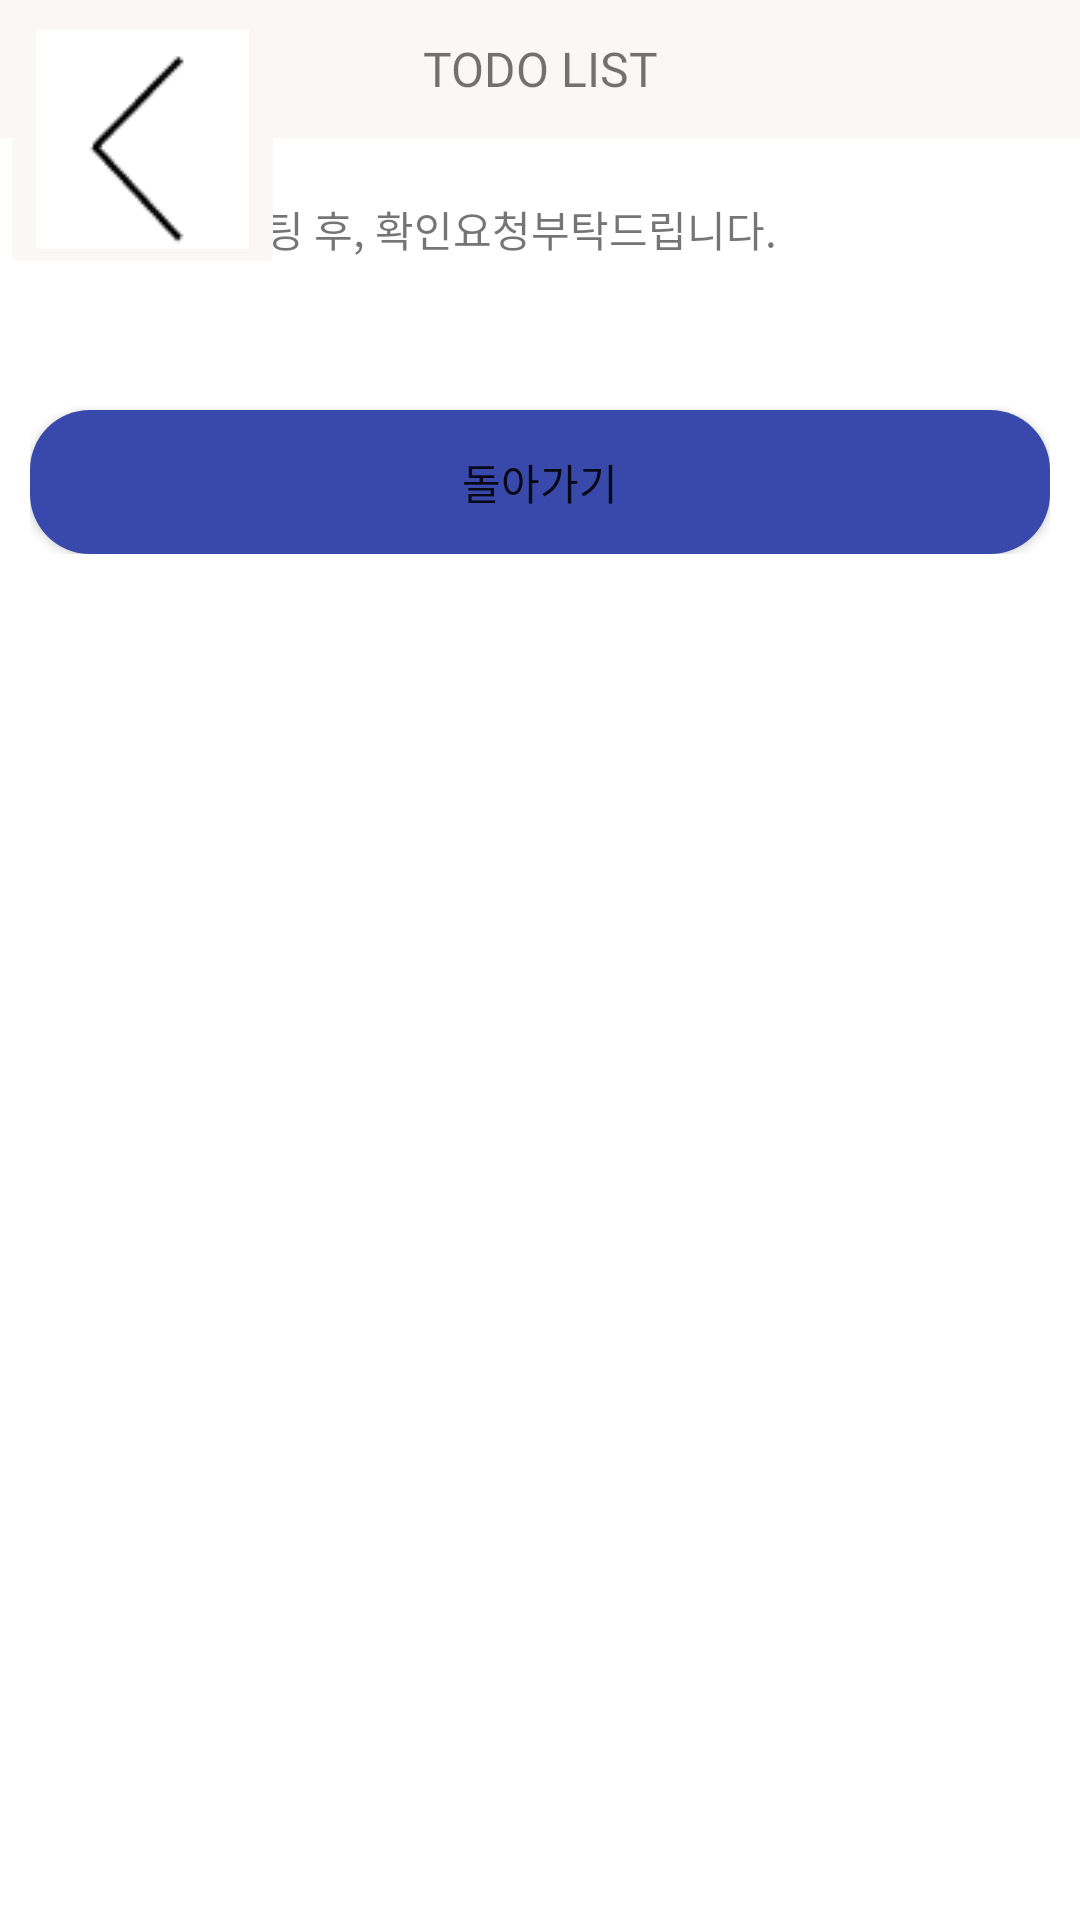

Icon click points for this 1080w x 1920h phone screenshot, format [x,y]:
arrow: [187,149]
